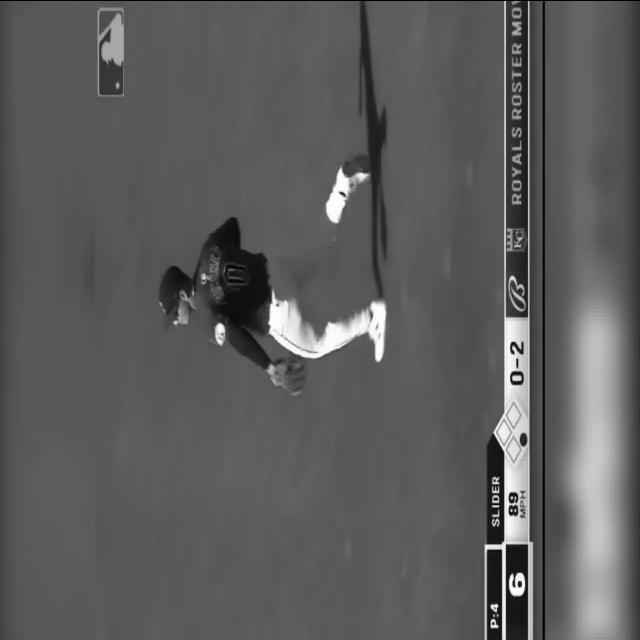baseball_glove: (268, 356, 305, 396)
shoe: (335, 153, 371, 198), (369, 298, 386, 362)
